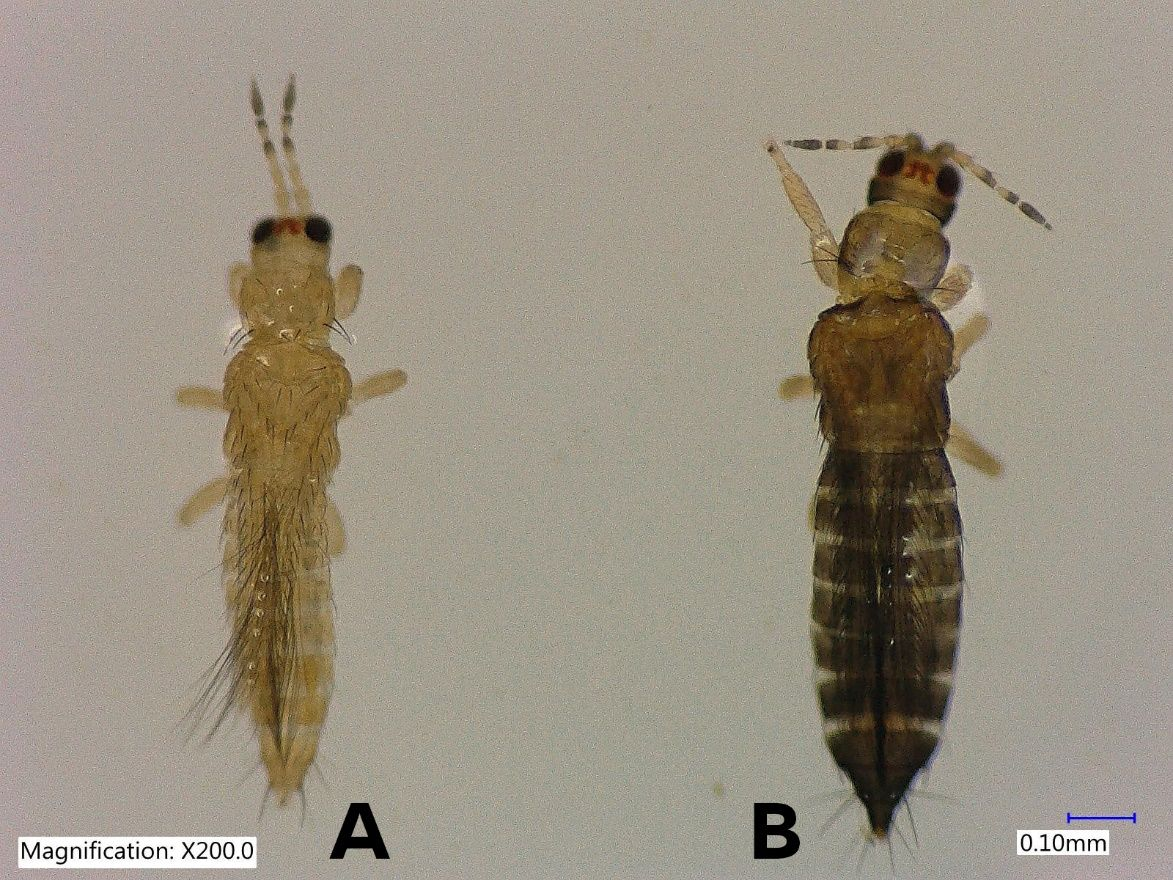Thripidae: (757, 133, 1050, 849), (174, 70, 405, 816)
